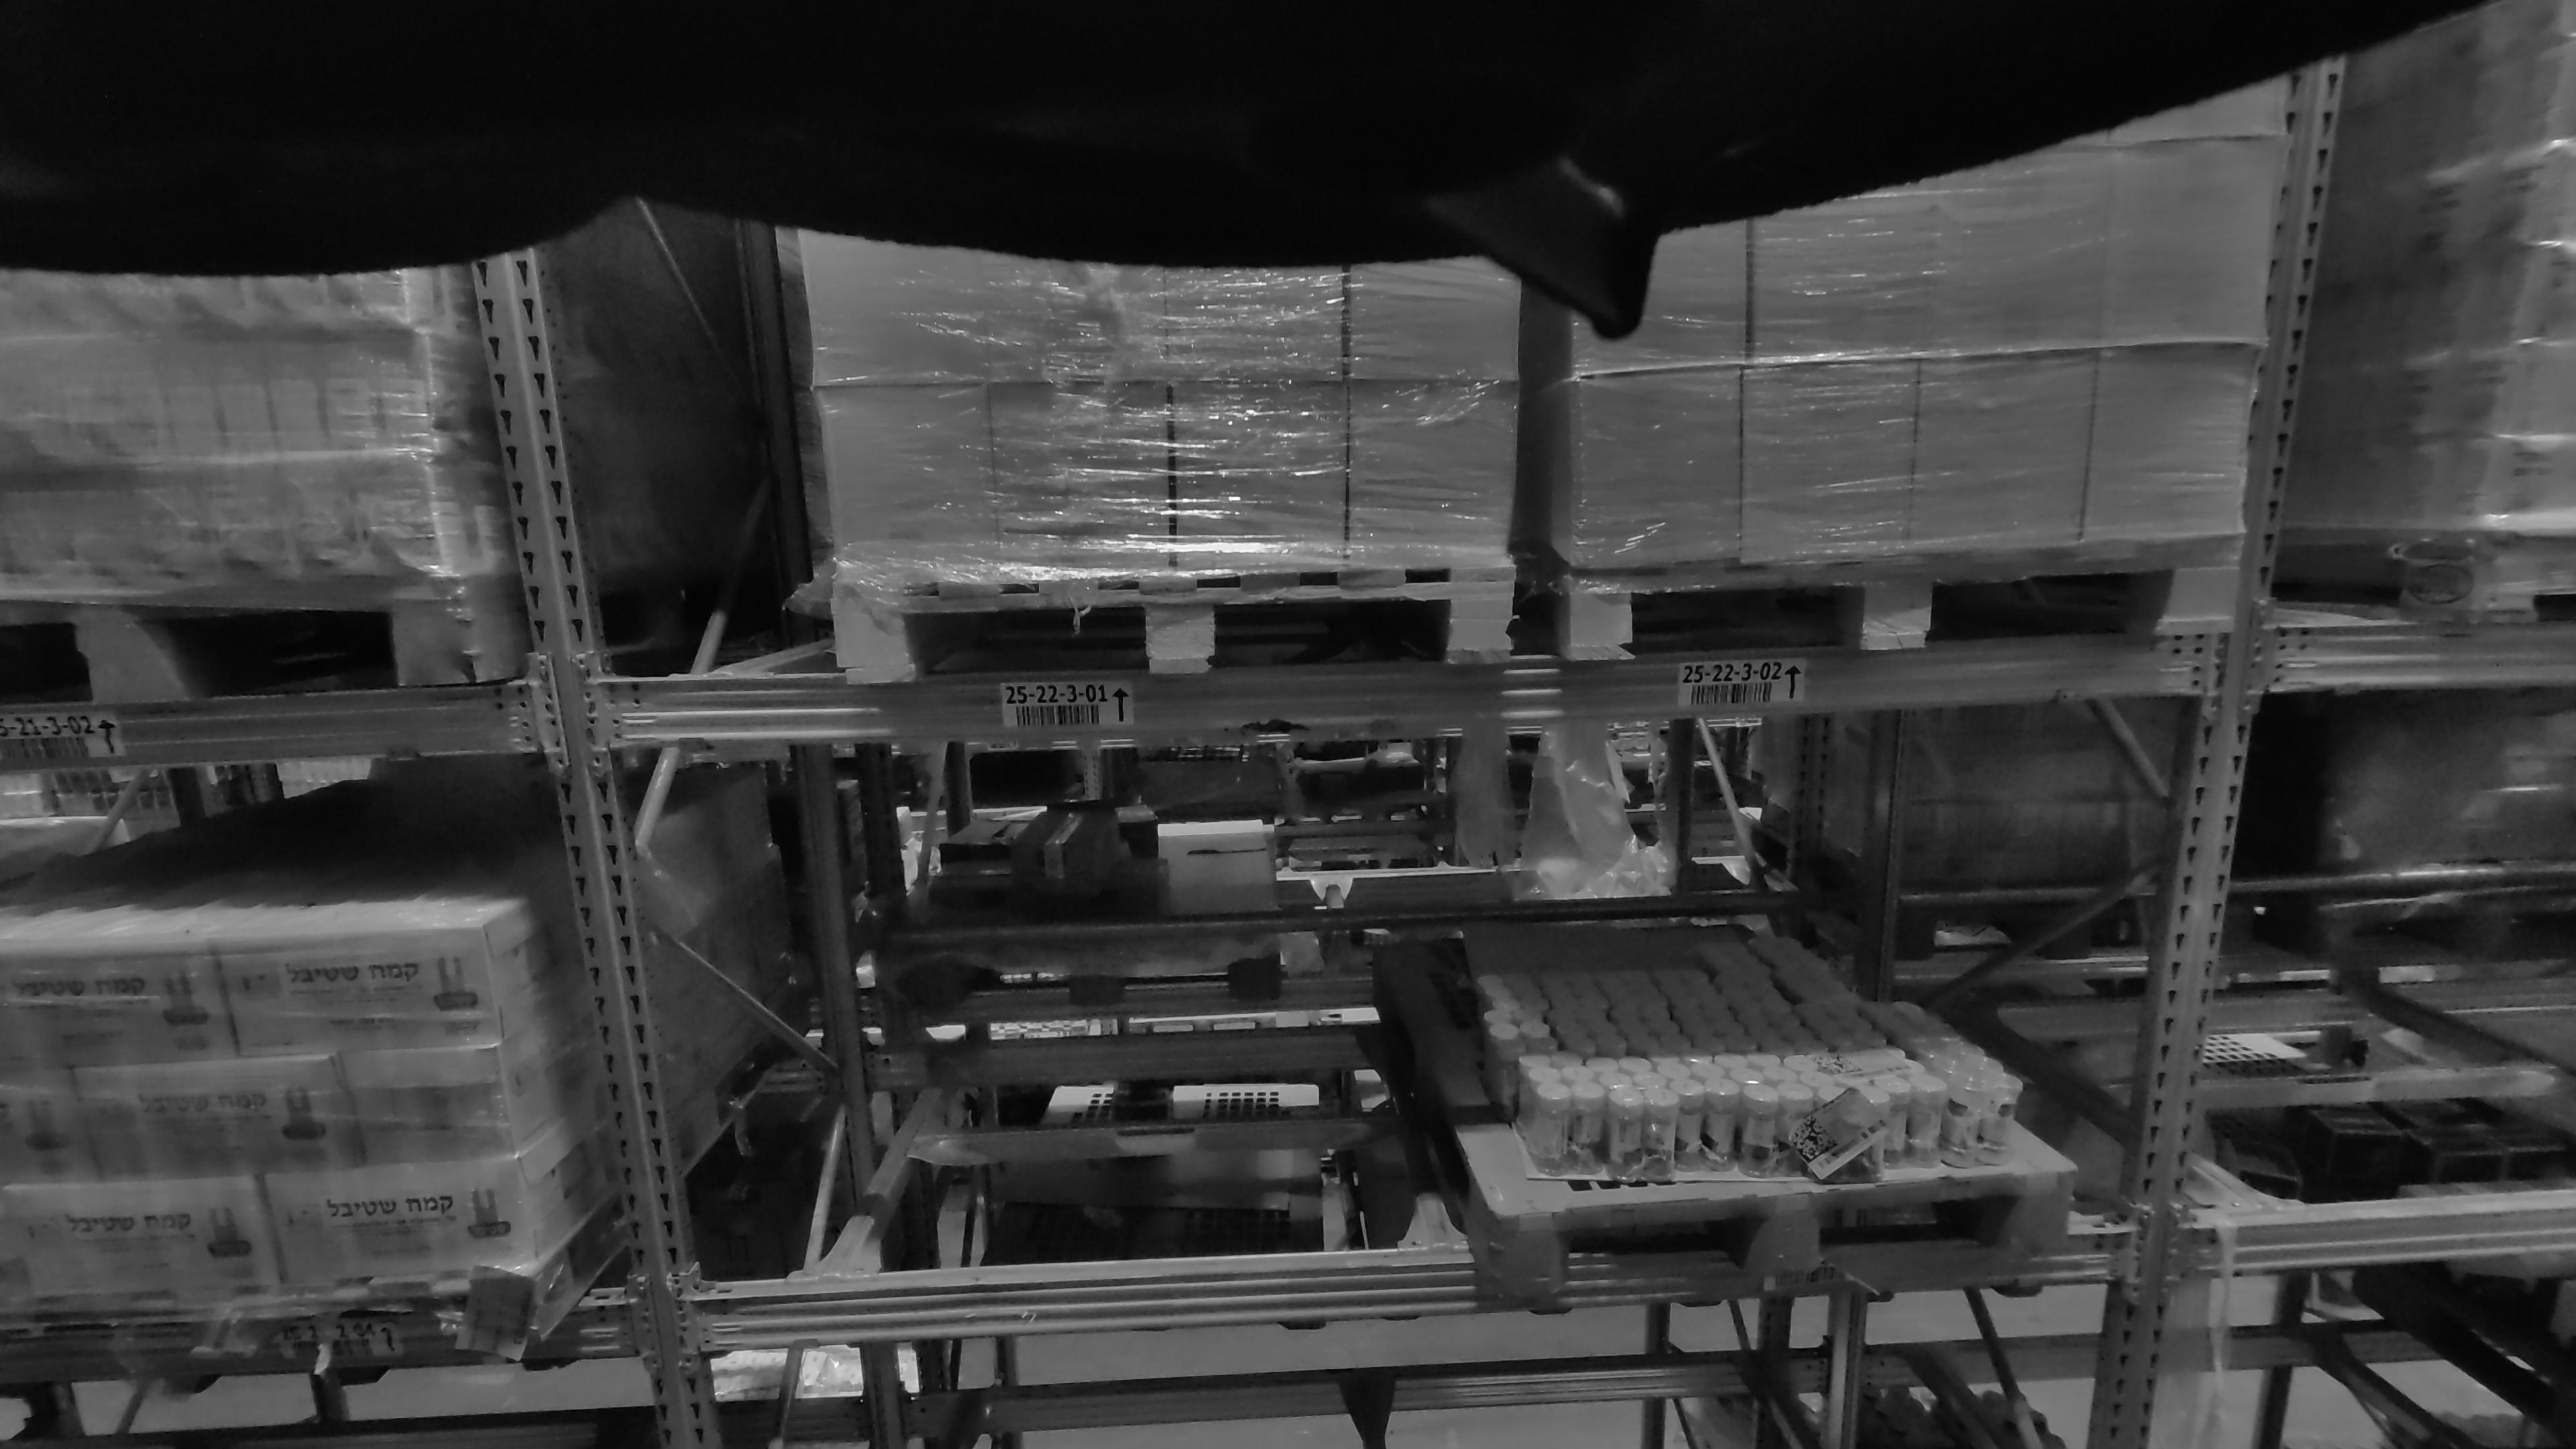empty-shelf: (798, 754, 1366, 1247), (2291, 701, 2576, 1194)
